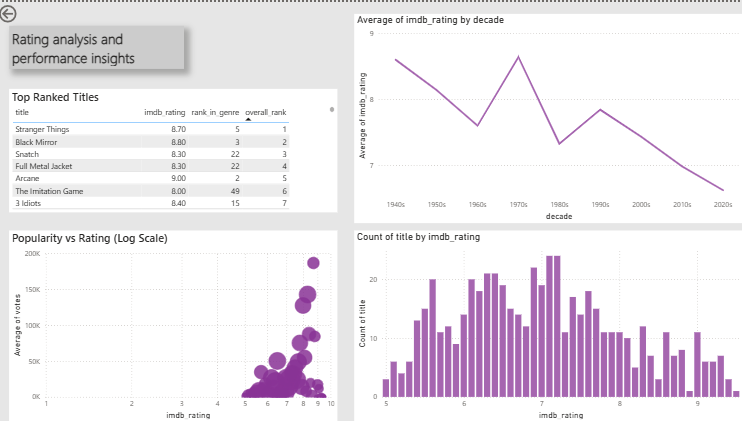

What the dashboard file says about the page in this screenshot:
{"tool":"powerbi","page":{"name":"Page 4","canvas":[1280,720],"ordinal":3},"visuals":[{"type":"lineChart","fields":{"Category":["titles.decade"],"Y":["Avg(titles.imdb_rating)"]},"box":[613.6,19.7,665.7,358.8],"z":0},{"type":"clusteredColumnChart","fields":{"Category":["titles.imdb_rating"],"Y":["CountNonNull(titles.title)"]},"box":[613.6,391.1,665.7,328.3],"z":1000},{"type":"scatterChart","title":"Popularity vs Rating (Log Scale)","fields":{"Size":["Sum(vw_titles_enriched.vote_weighted_score)"],"X":["vw_titles_enriched.imdb_rating"],"Y":["Avg(vw_titles_enriched.votes)"]},"box":[21.5,391.1,563.4,328.3],"z":2000},{"type":"tableEx","title":"Top Ranked Titles","fields":{"Values":["vw_titles_enriched.title","vw_titles_enriched.imdb_rating","vw_titles_enriched.rank_in_genre","vw_titles_enriched.overall_rank"]},"box":[21.5,148.9,563.4,211.7],"z":3000},{"type":"actionButton","box":[0,0,100,40],"z":4000},{"type":"textbox","box":[22,40,300,74],"z":5000}]}

Visuals, with their boxes in screenshot pixels (x1, y1, x2, y2), scaled from the page's 1280x720 canvas onto the 742x421 screenshot:
lineChart - titles.decade x Avg(titles.imdb_rating): bbox=[356, 12, 741, 221]
clusteredColumnChart - titles.imdb_rating x CountNonNull(titles.title): bbox=[356, 229, 741, 420]
"Popularity vs Rating (Log Scale)" scatterChart: bbox=[12, 229, 339, 420]
"Top Ranked Titles" tableEx: bbox=[12, 87, 339, 211]
actionButton: bbox=[0, 0, 58, 23]
textbox: bbox=[13, 23, 187, 67]
